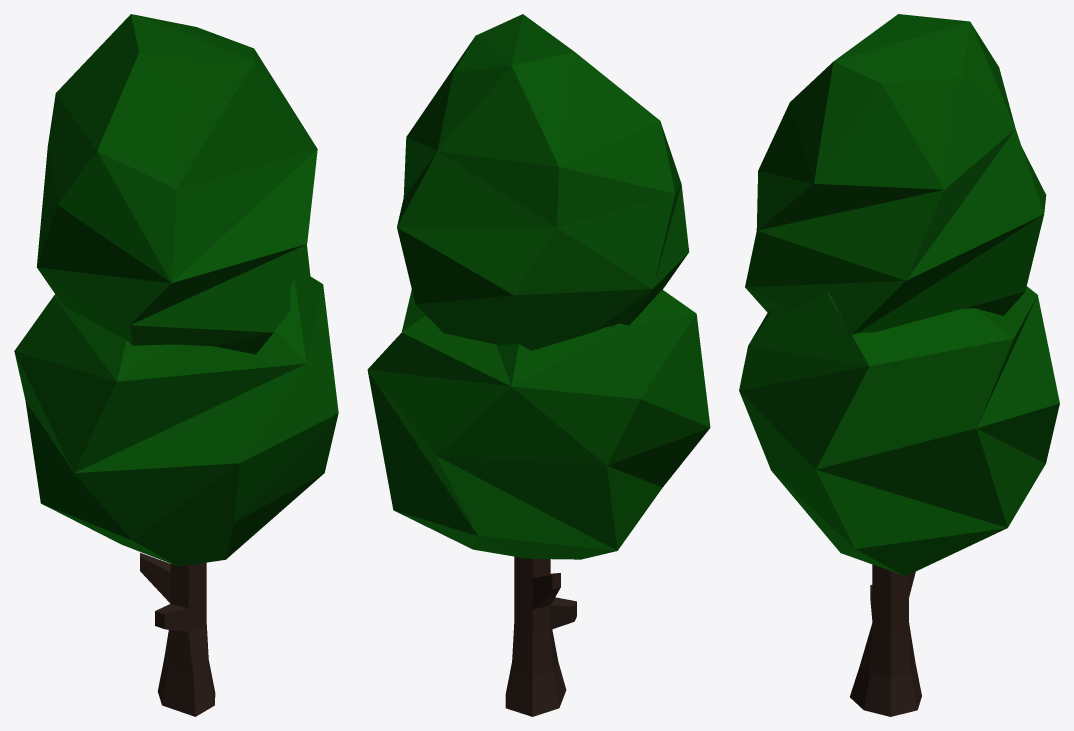
File: Tree14.fbx
The picture shows the model from 3 angles, left to right: view 1: azimuth 30°, elevation 25°; view 2: azimuth 150°, elevation 25°; view 3: azimuth 270°, elevation 25°; orthographic projection.
Parts seen in each view (by area): view 1: Tree08; view 2: Tree08; view 3: Tree08.
Part boxes in pixels (x1,y1,x2,y2): Tree08: (14, 14, 338, 716); Tree08: (367, 14, 710, 716); Tree08: (739, 14, 1059, 716).
Size of the model in its own units: 0.5739 by 1.35 by 0.5816.
